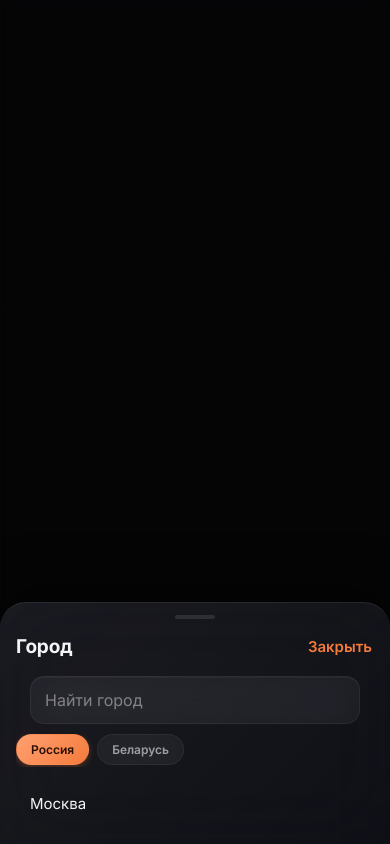
Scenario: CityPicker › поиск идёт по всем странам, а не только по активной вкладке
Expected: the button "Москва" is shown, 16,781 -> 374,826
Step 1. Type "минск" into the search field labelled "Найти город" → (195, 700), box 30,676 -> 360,724
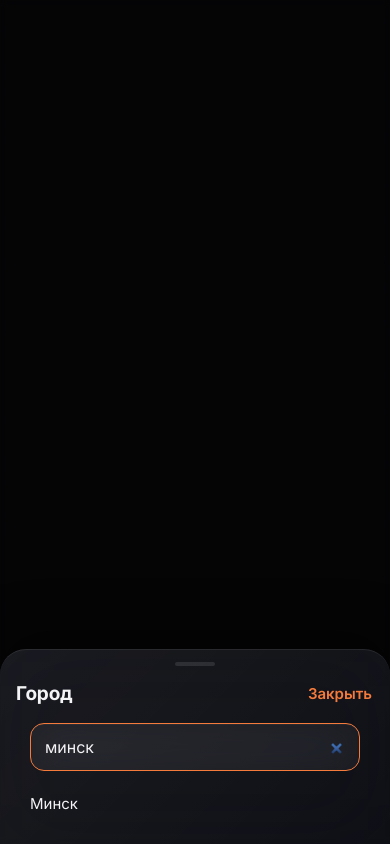
Result: the button "Минск" is shown at 16,781 -> 374,826
